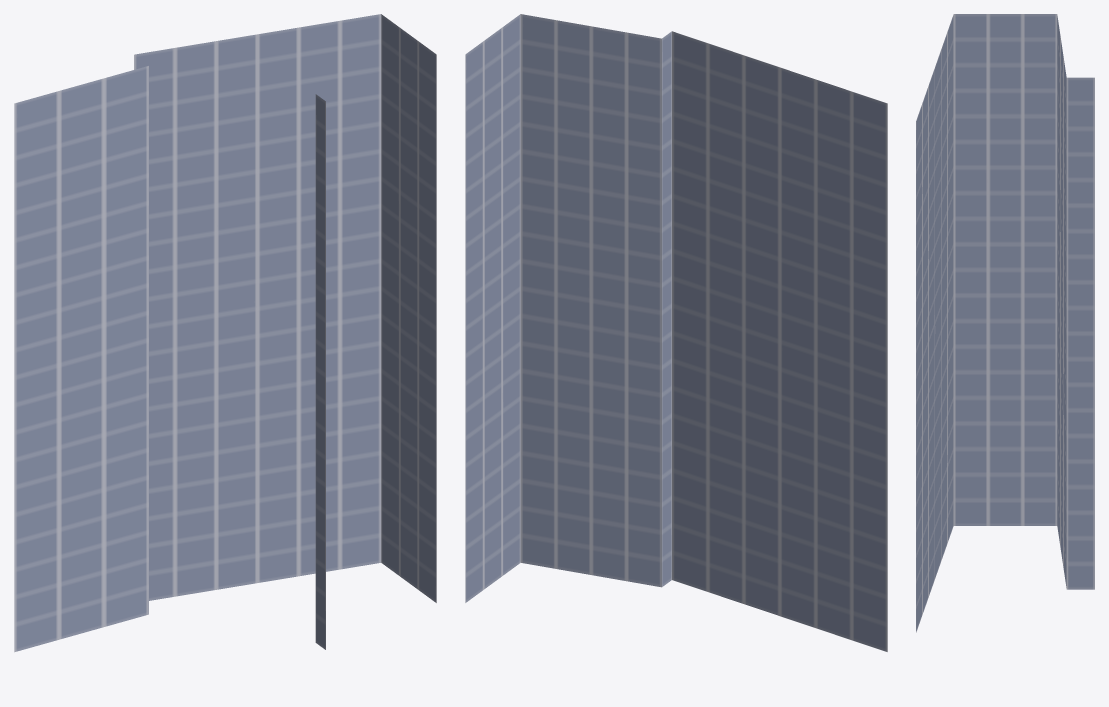
File: testui4.gltf
3 views of the same model, side by side, from view 1: azimuth 30°, elevation 25°; view 2: azimuth 150°, elevation 25°; view 3: azimuth 270°, elevation 25° (orthographic). The views are drawn at different scales.
Bounding box in the file's own units: 42 × 60 × 19.
Materials: 2 (2 with a texture image).
